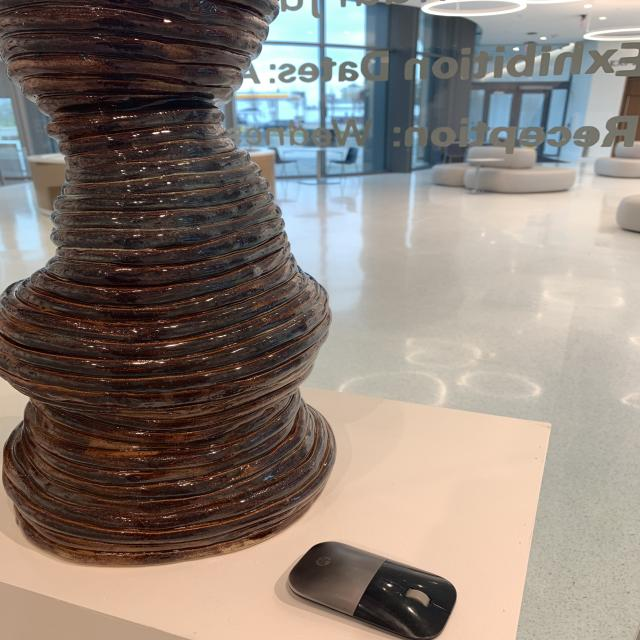Mouse: (287, 535, 461, 640)
